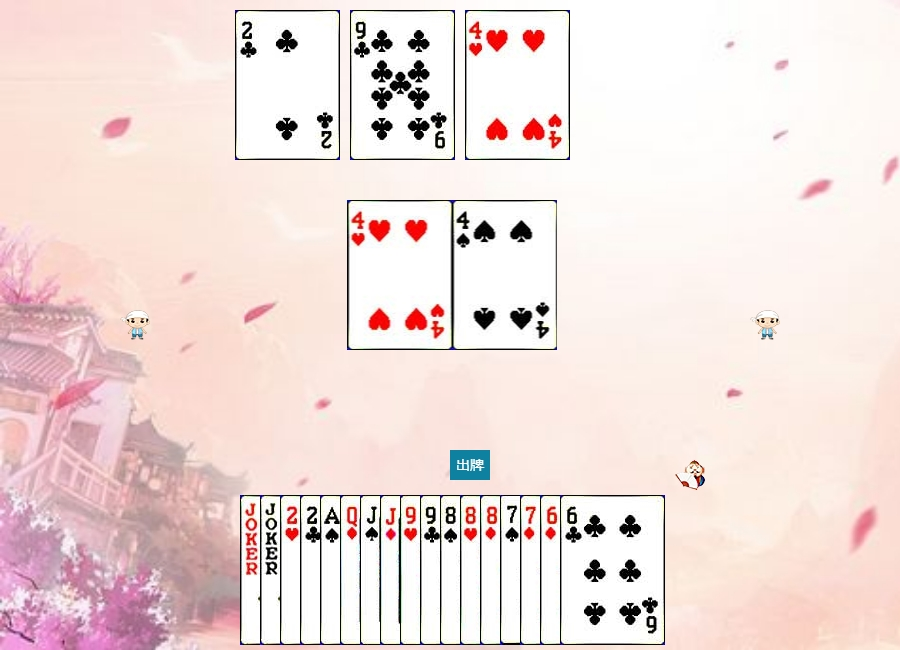11~1: (380, 495, 485, 645)
11~4: (360, 495, 465, 645)
12~1: (340, 495, 445, 645)
14~4: (320, 495, 425, 645)
15~2: (235, 10, 340, 160), (300, 495, 405, 645)
15~3: (280, 495, 385, 645)
17~3: (260, 495, 365, 645)
18~4: (240, 495, 345, 645)
4~3: (465, 10, 570, 160), (348, 200, 453, 350)
4~4: (453, 200, 558, 350)
6~1: (540, 495, 645, 645)
6~2: (560, 495, 665, 645)
7~1: (520, 495, 625, 645)
7~4: (500, 495, 605, 645)
8~1: (480, 495, 585, 645)
8~3: (460, 495, 565, 645)
8~4: (440, 495, 545, 645)
9~2: (350, 10, 455, 160), (420, 495, 525, 645)
9~3: (400, 495, 505, 645)
